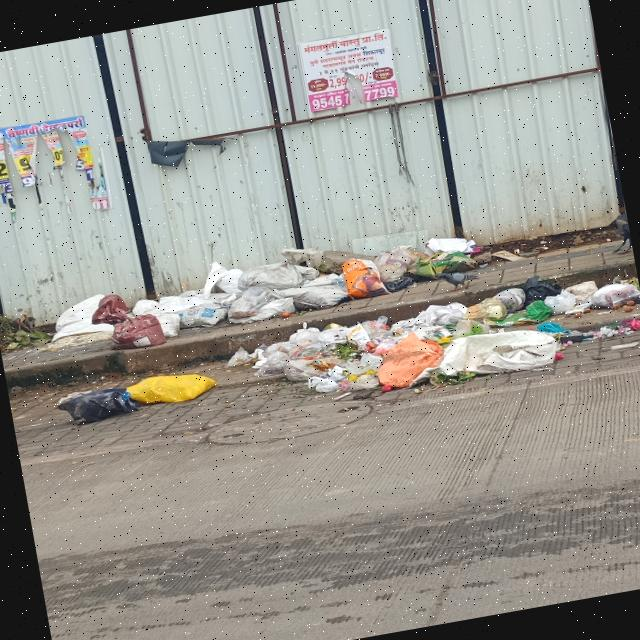garbage: (63, 268, 640, 446), (38, 200, 556, 367)
